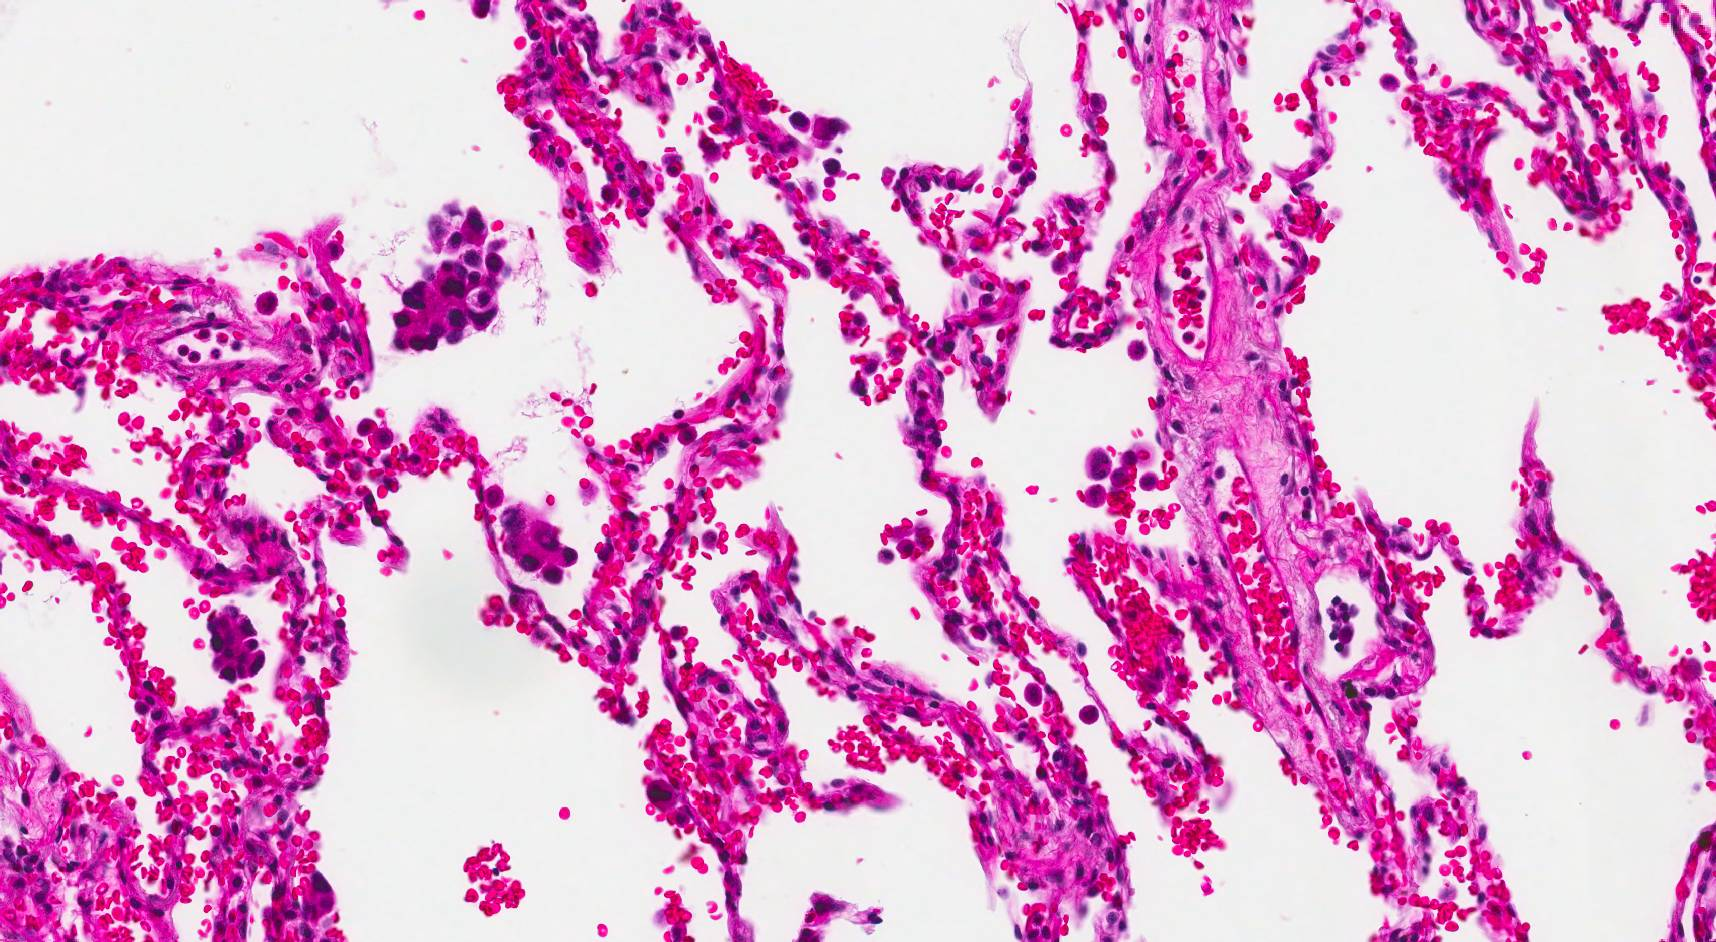stas: (389, 200, 516, 358), (498, 506, 585, 585), (200, 602, 265, 683)
